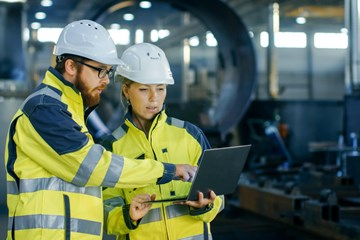Hard Hat: (56, 19, 121, 64), (120, 44, 177, 86)
High Viz: (10, 76, 100, 238), (114, 120, 206, 233)
